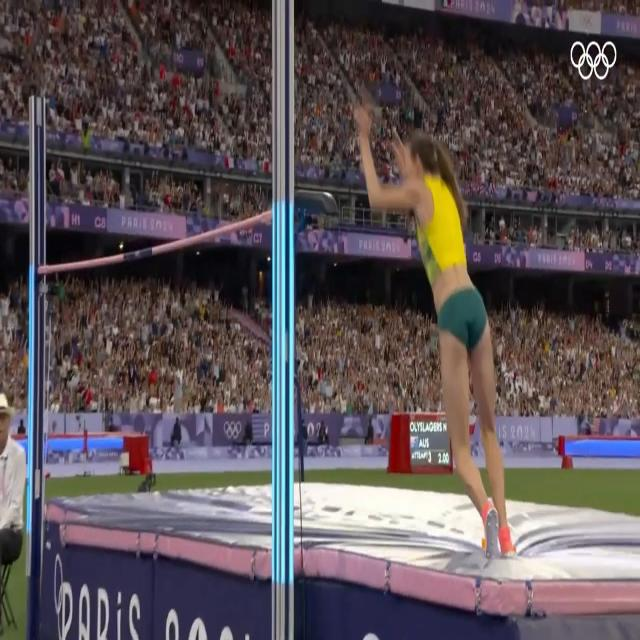land: (362, 118, 518, 556)
